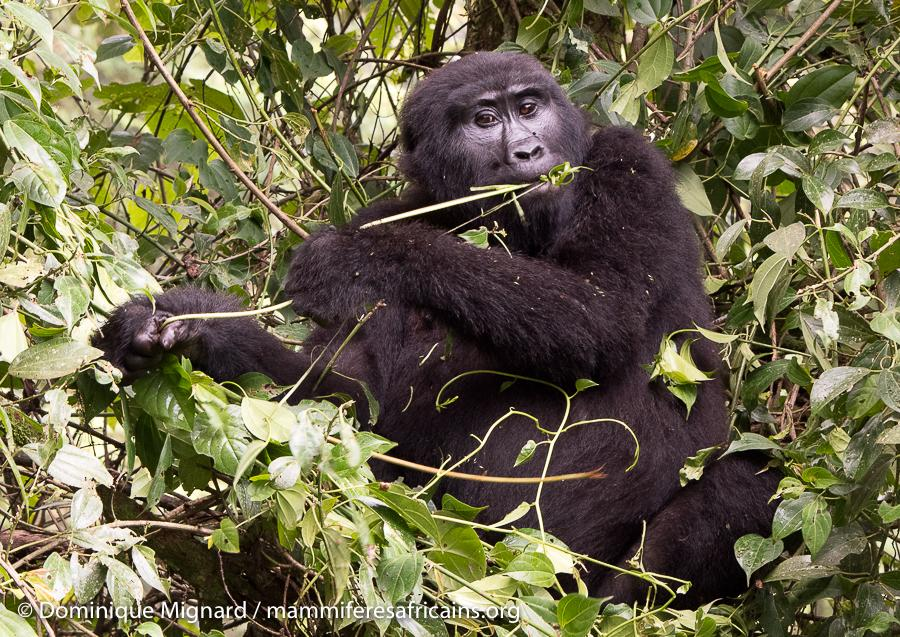goriile_montagne: (118, 0, 812, 607)
